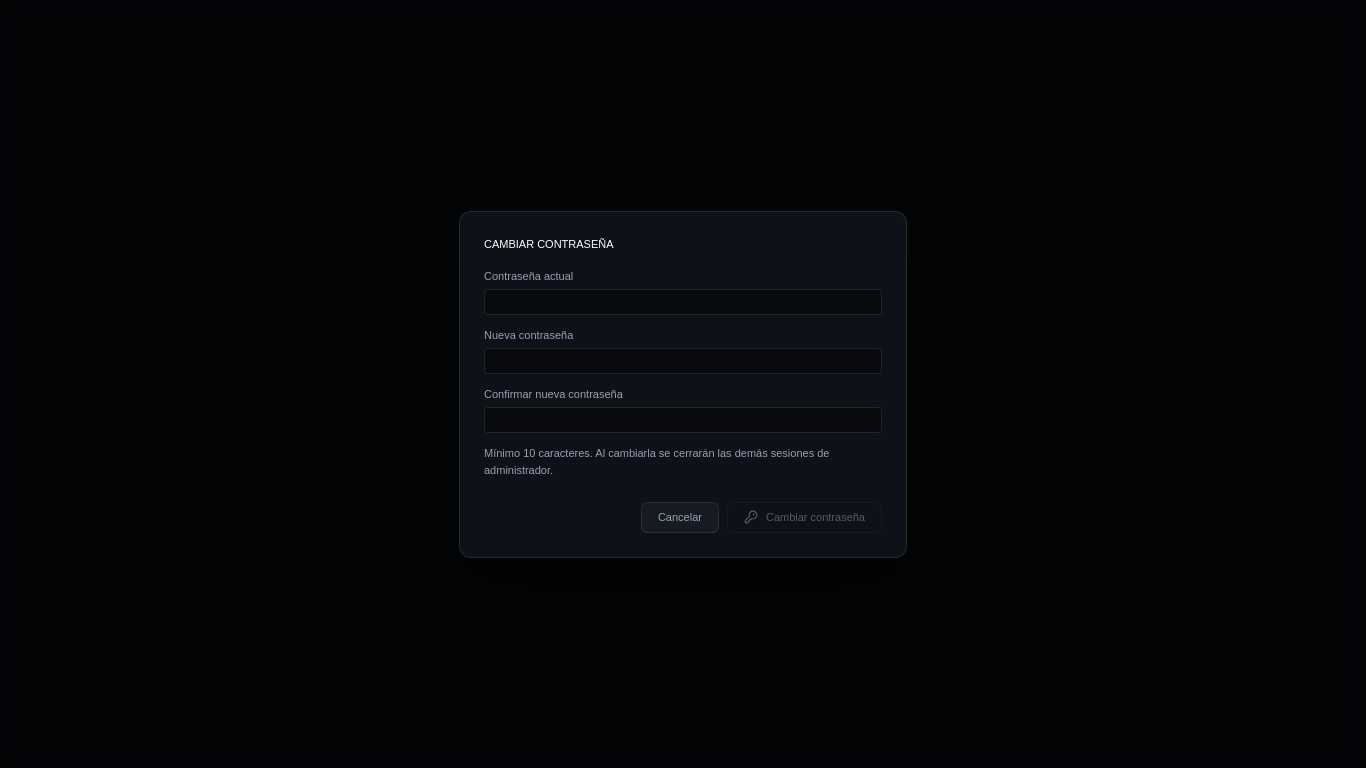
Test case: AdminPasswordChangeDialog › says the current password is wrong without ending the session, keeping the new password typed
Step 1. Type "correct horse battery staple" into the password field labelled "Contraseña actual" → (683, 302), box [484,288,882,315]
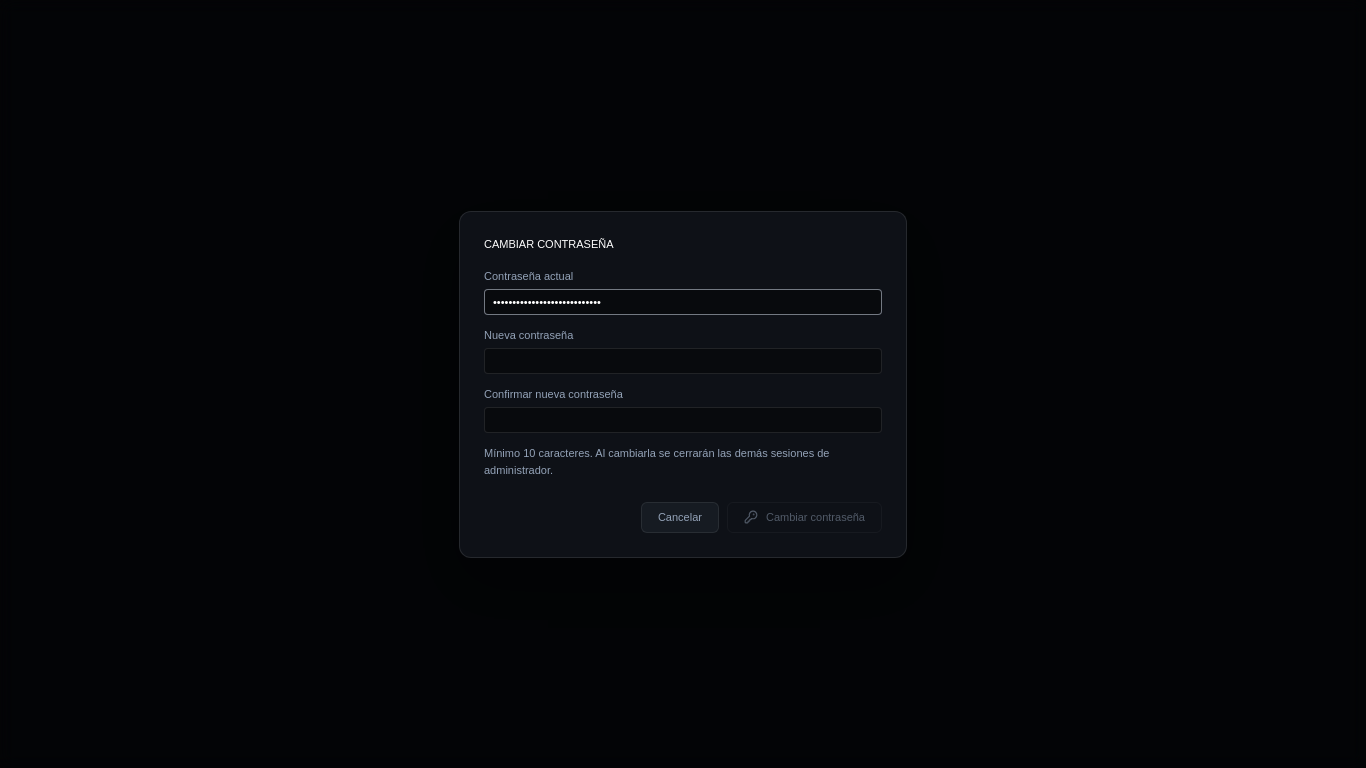
Step 2. Type "a different durable passphrase" into the password field labelled "Nueva contraseña" → (683, 361), box [484,348,882,374]
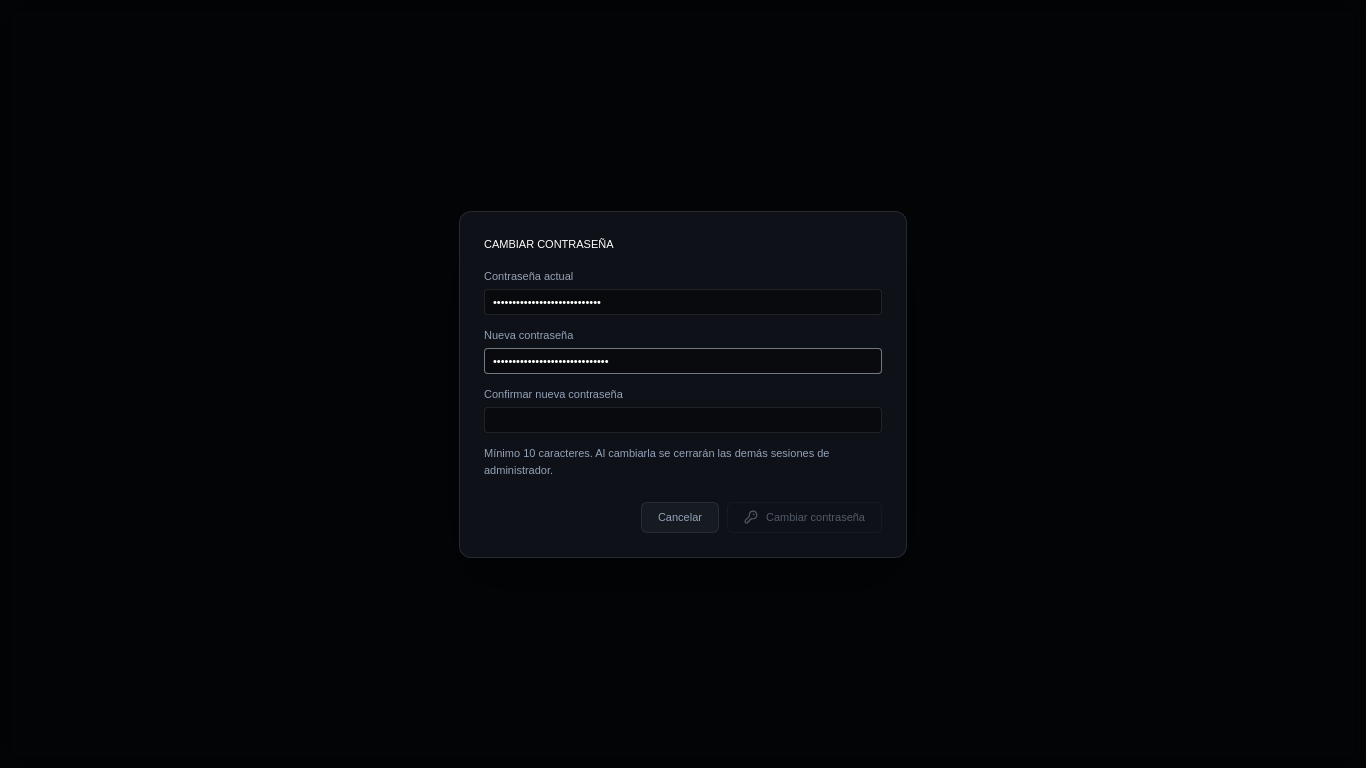
Step 3. Type "a different durable passphrase" into the password field labelled "Confirmar nueva contraseña" → (683, 420), box [484,406,882,433]
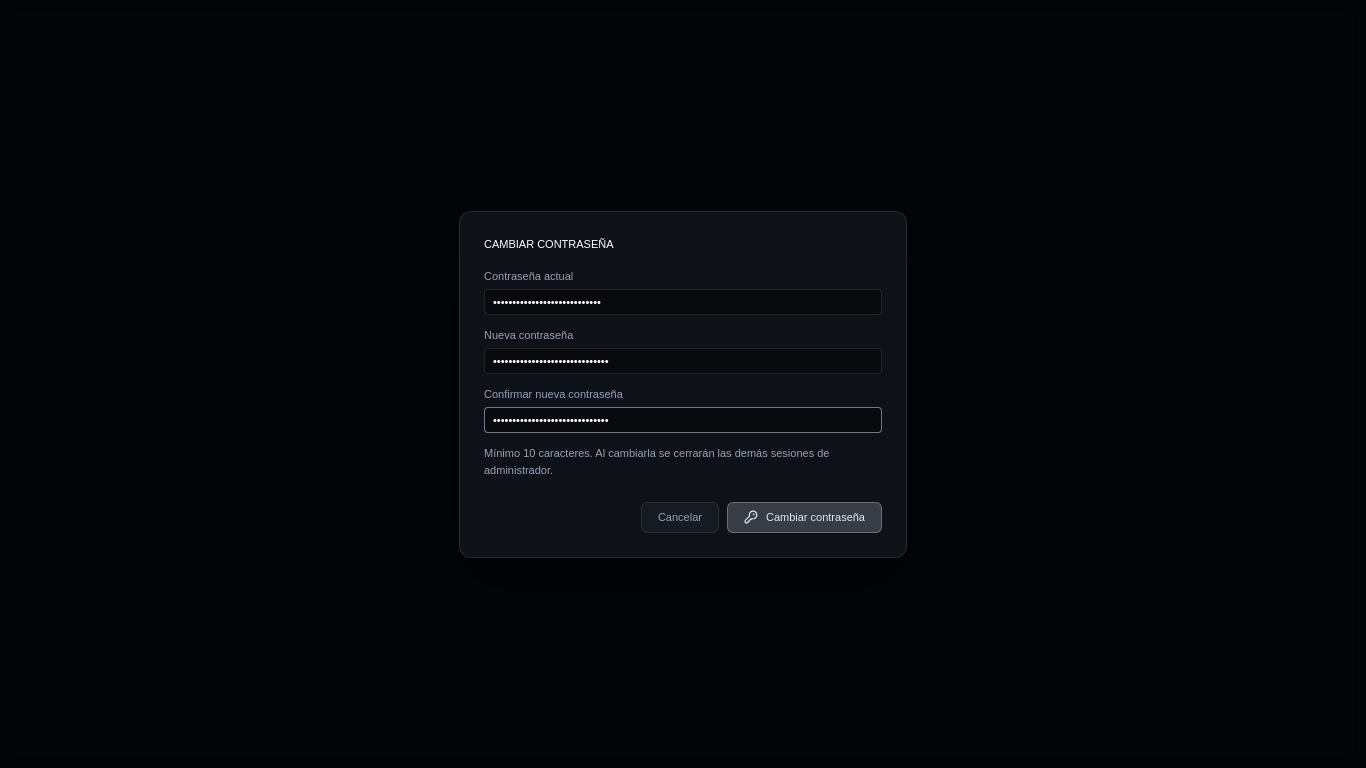
Step 4. Click the button "Cambiar contraseña" → click(804, 517), box [727,502,882,532]
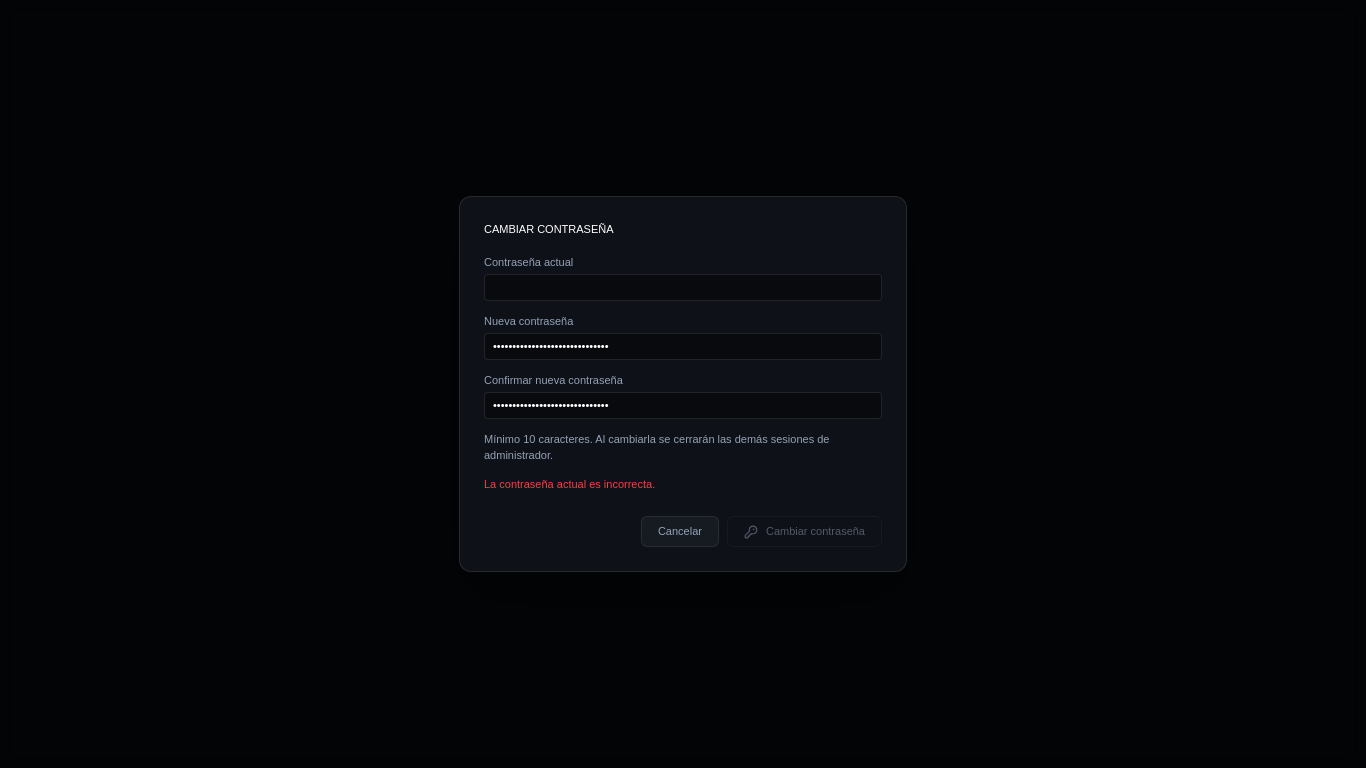
Check: the message reads "La contraseña actual es incorrecta.", box [484,478,655,490]
Check: the password field labelled "Contraseña actual" is empty, box [484,274,882,301]
